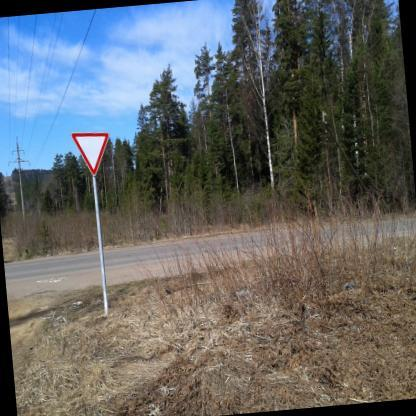road_sign: (72, 133, 109, 176)
